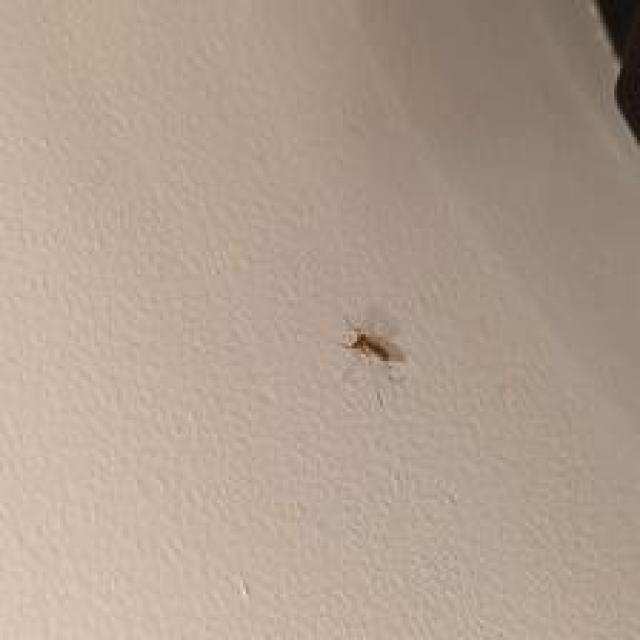Culex: (346, 328, 391, 363)
